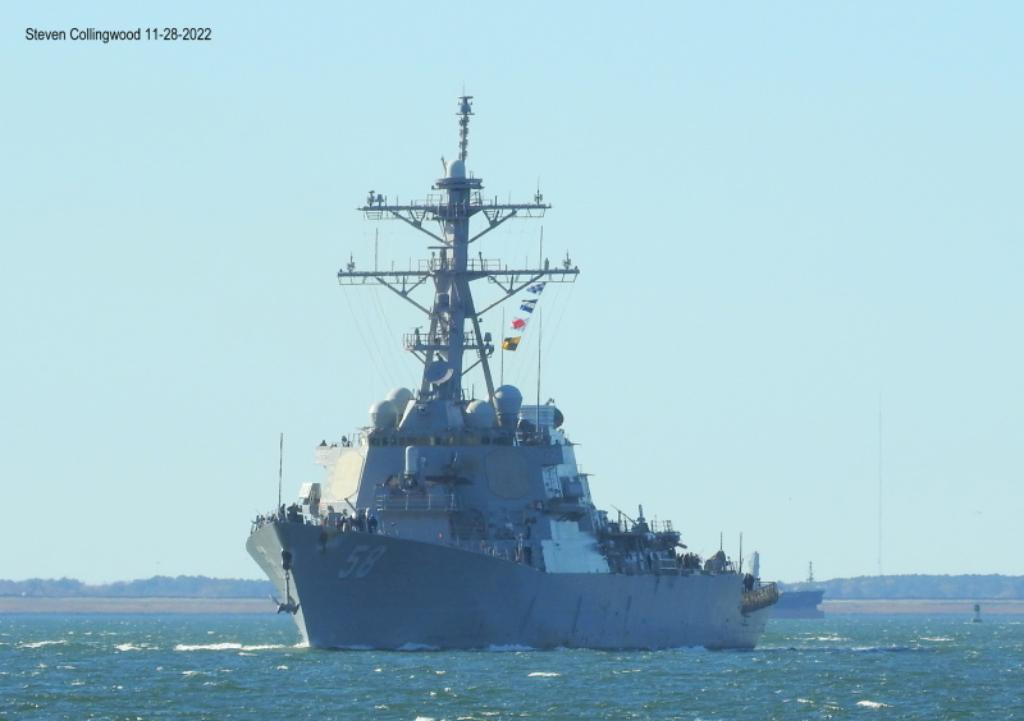Warship: (243, 82, 771, 654)
